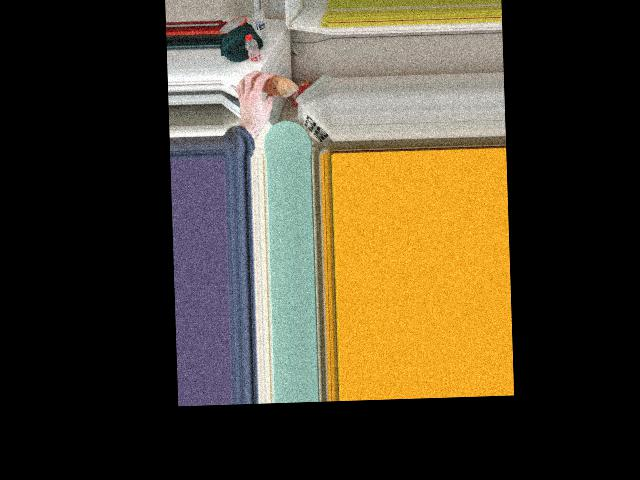sweet_potato: (248, 74, 296, 97)
